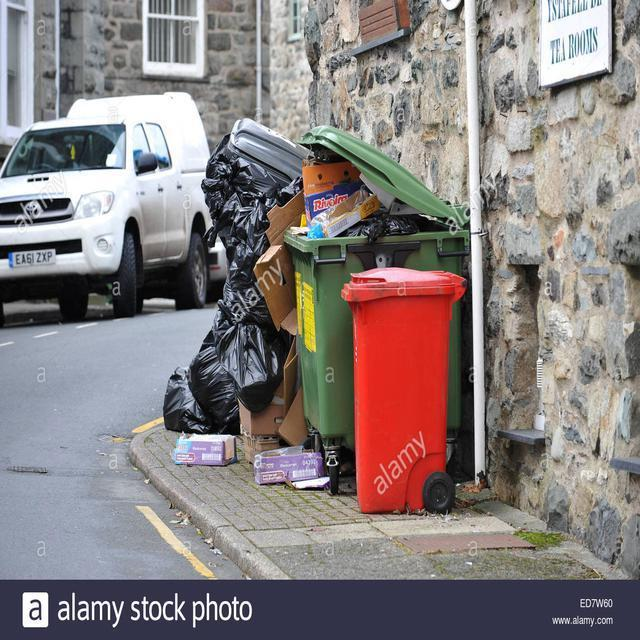garbage: (157, 251, 303, 461), (197, 147, 376, 234), (251, 437, 344, 496)
